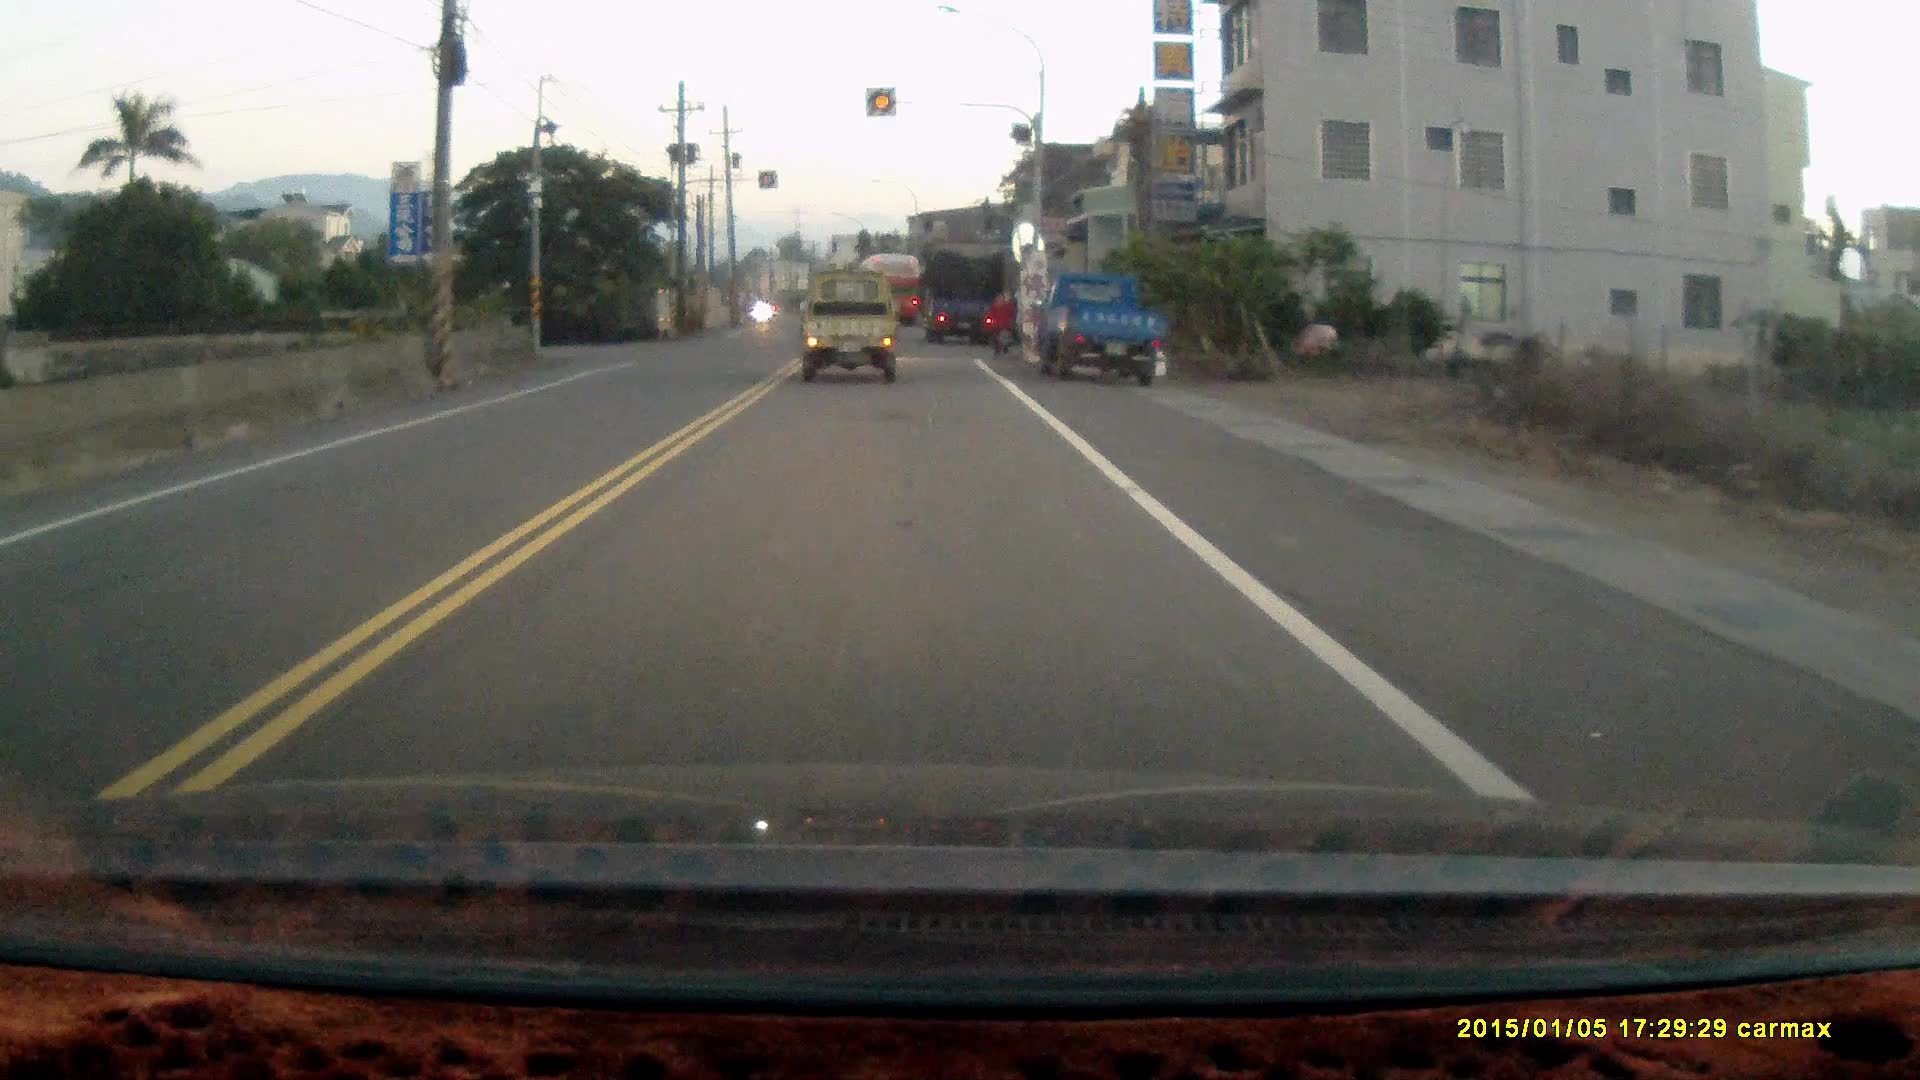pedestrian: (984, 278, 1015, 352)
vehicle: (1030, 267, 1167, 386), (802, 274, 907, 383), (924, 244, 1006, 343)
